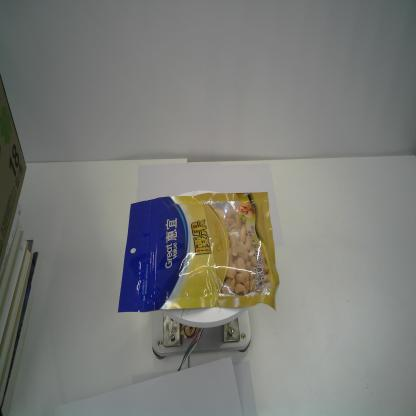Dried Fruit: (117, 192, 280, 314)
